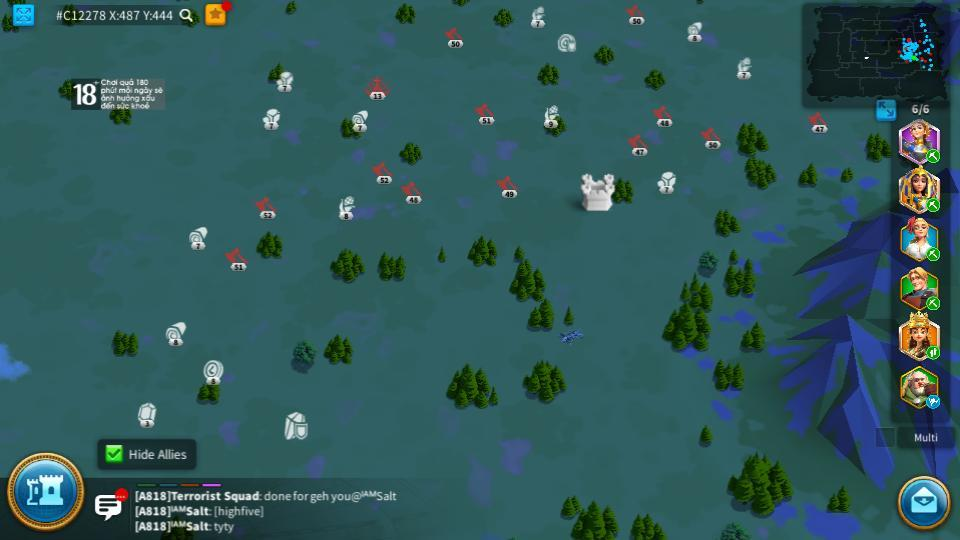gem-z-out: (136, 401, 155, 426)
march_idle: (925, 395, 943, 407)
march_marching: (925, 197, 941, 212), (925, 248, 942, 260), (925, 347, 941, 359), (925, 150, 941, 162), (925, 297, 942, 308)
